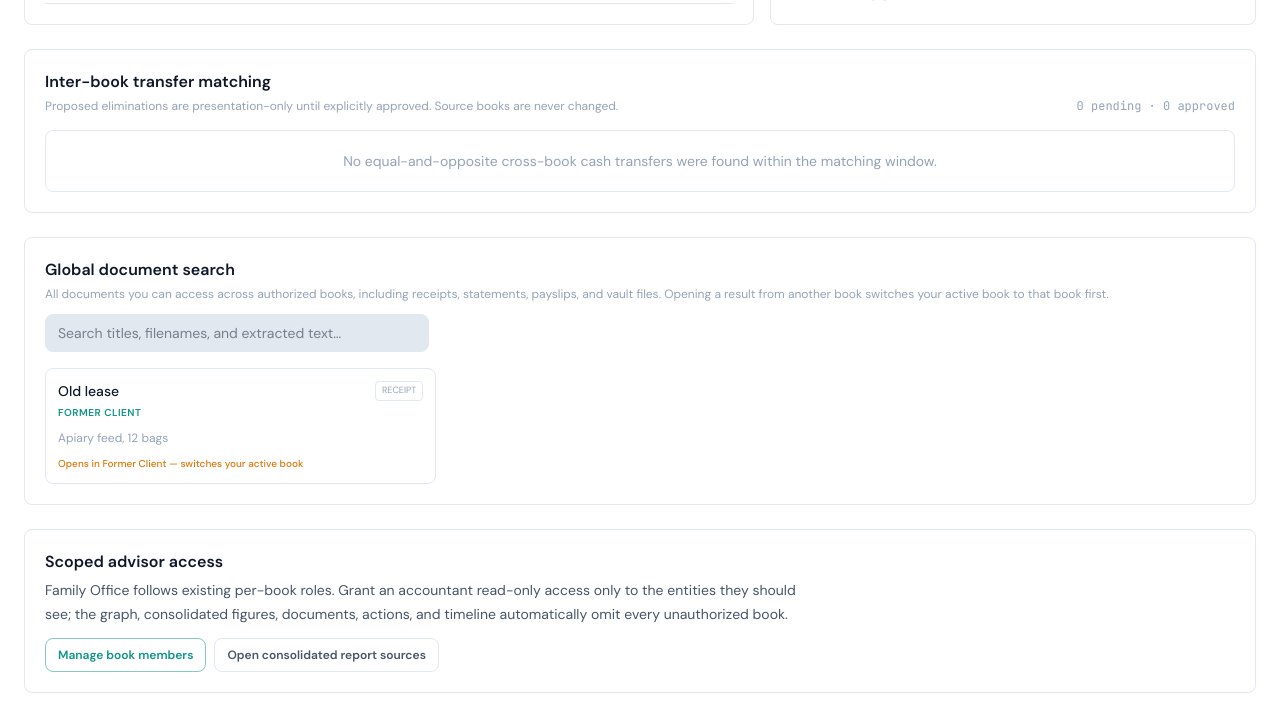
Family Office cross-book document results › refuses a result whose book the caller is not authorized for instead of switching
(page scrolled)
Expected: the text "Old lease" is shown, [58, 381, 119, 401]
Click the button with aria-label "Open Old lease in Former Client" at (89,391), box [45, 368, 436, 484]
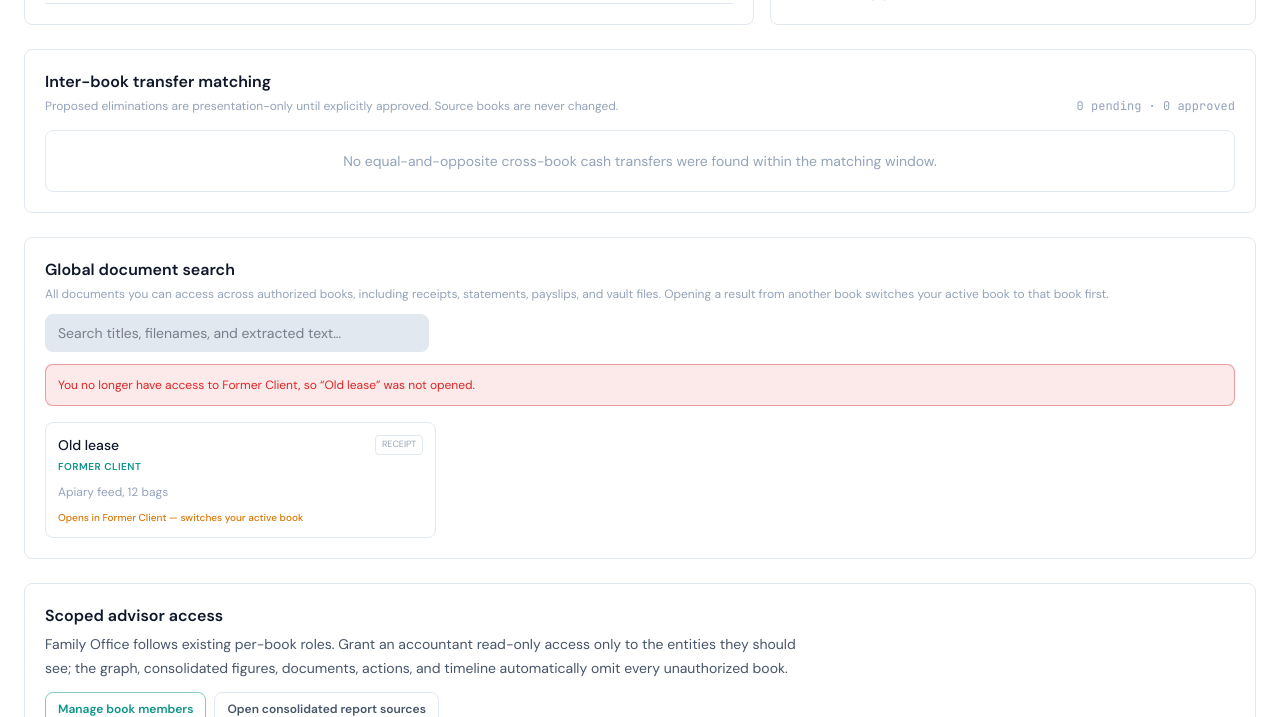
Expected: the text "You no longer have access to Former Client" is shown, [58, 377, 475, 393]
